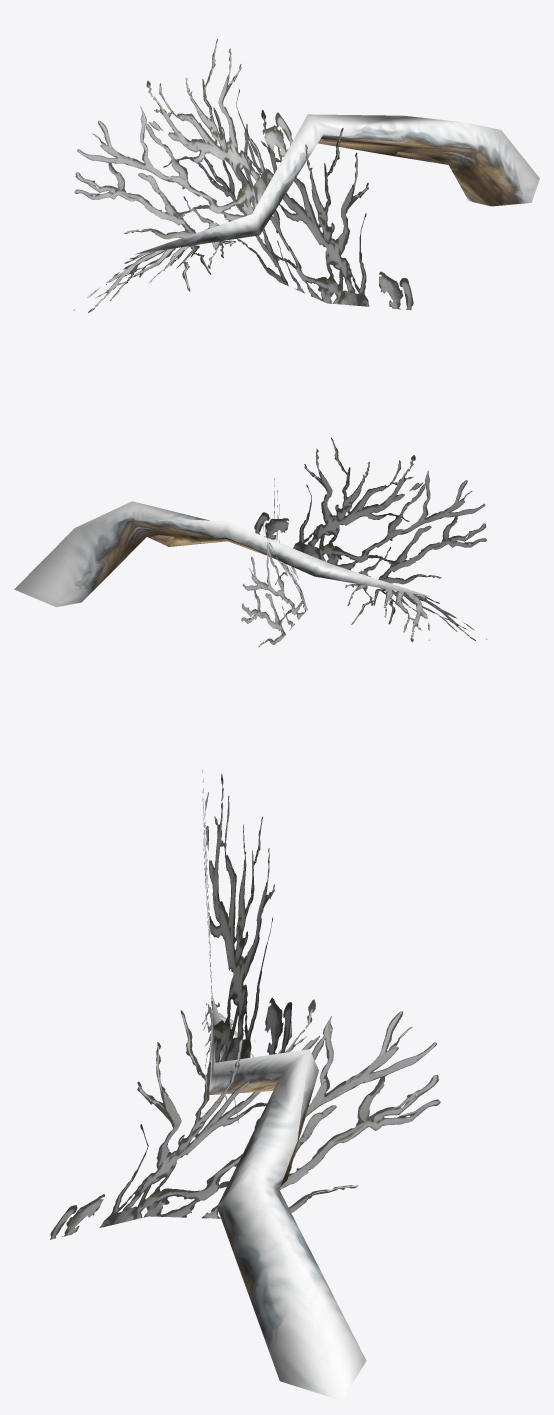
File: winterspringfallenbranch01.obj
3 renders of one model, top to bottom at view 1: azimuth 30°, elevation 25°; view 2: azimuth 150°, elevation 25°; view 3: azimuth 270°, elevation 25°, orthographic. The views are drawn at different scales.
Parts seen in each view (by area): view 1: Geoset1, Geoset0; view 2: Geoset0, Geoset1; view 3: Geoset0, Geoset1.
Boxes of the visible parts, <box> form: Geoset1: <box>73,39,413,312</box>; Geoset0: <box>135,114,539,254</box>; Geoset0: <box>14,501,430,607</box>; Geoset1: <box>241,437,487,647</box>; Geoset0: <box>209,997,366,1400</box>; Geoset1: <box>50,770,440,1239</box>.
Bounding box in the file's own units: 7.37 × 4.1 × 4.15.
2 materials, 2 textured.
